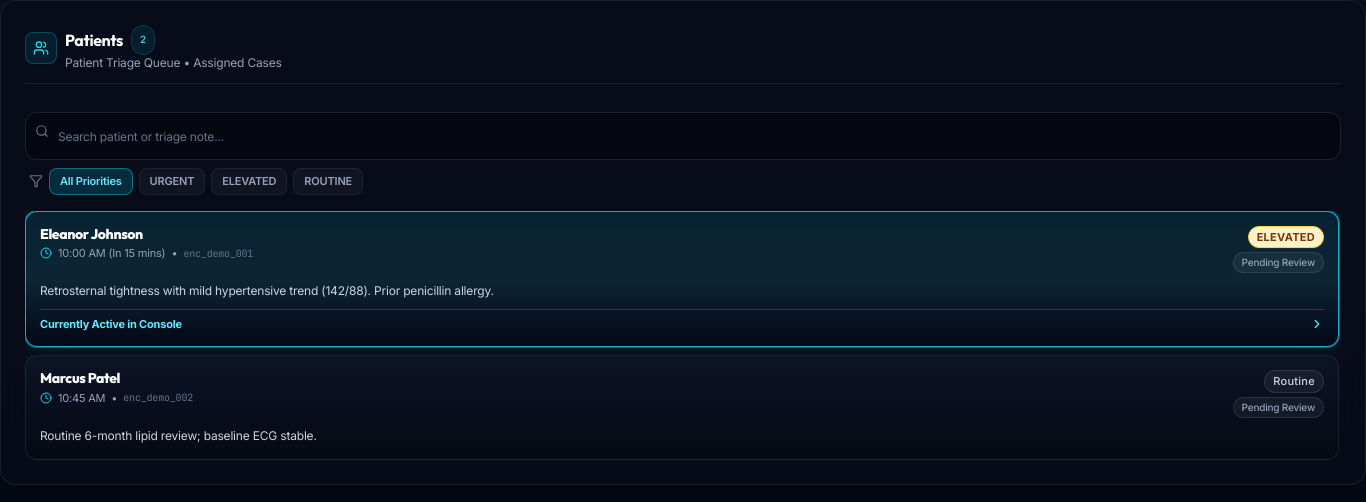
Test case: TASK-P1-501: Doctor Console, Briefing UI & Audio Player Suite › 1. DoctorQueueList Component › renders empty state when search finds no matches
Type "Nonexistent Patient XYZ" into the field with test id "queue-search-input" at {"x": 683, "y": 136}, box [25,112,1341,160]
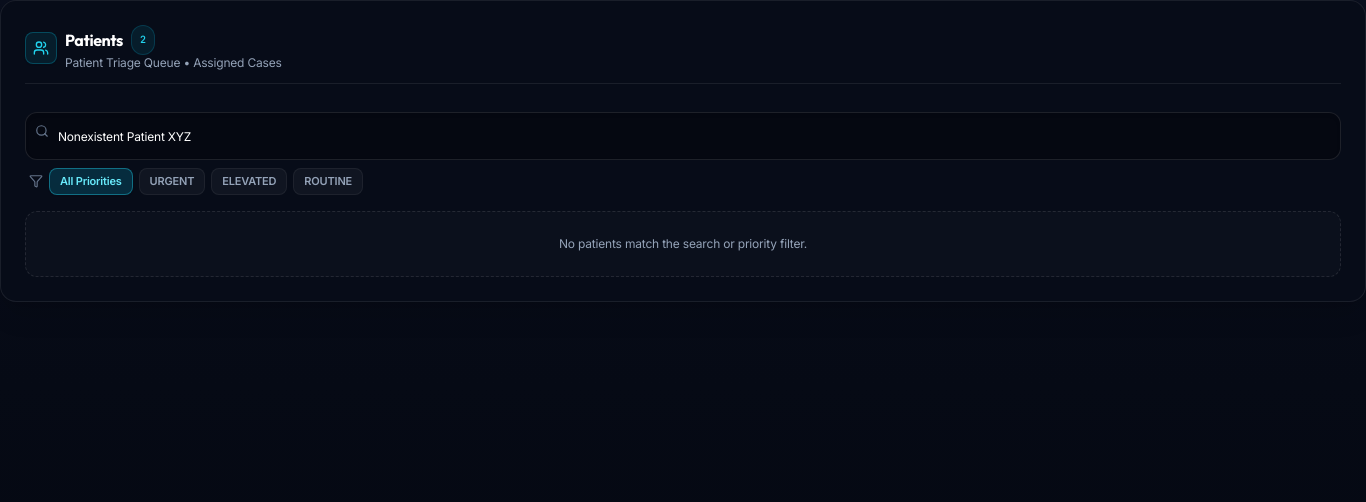
Expected: the text "No patients match the search or priority filter." is shown, [25,210,1341,276]
